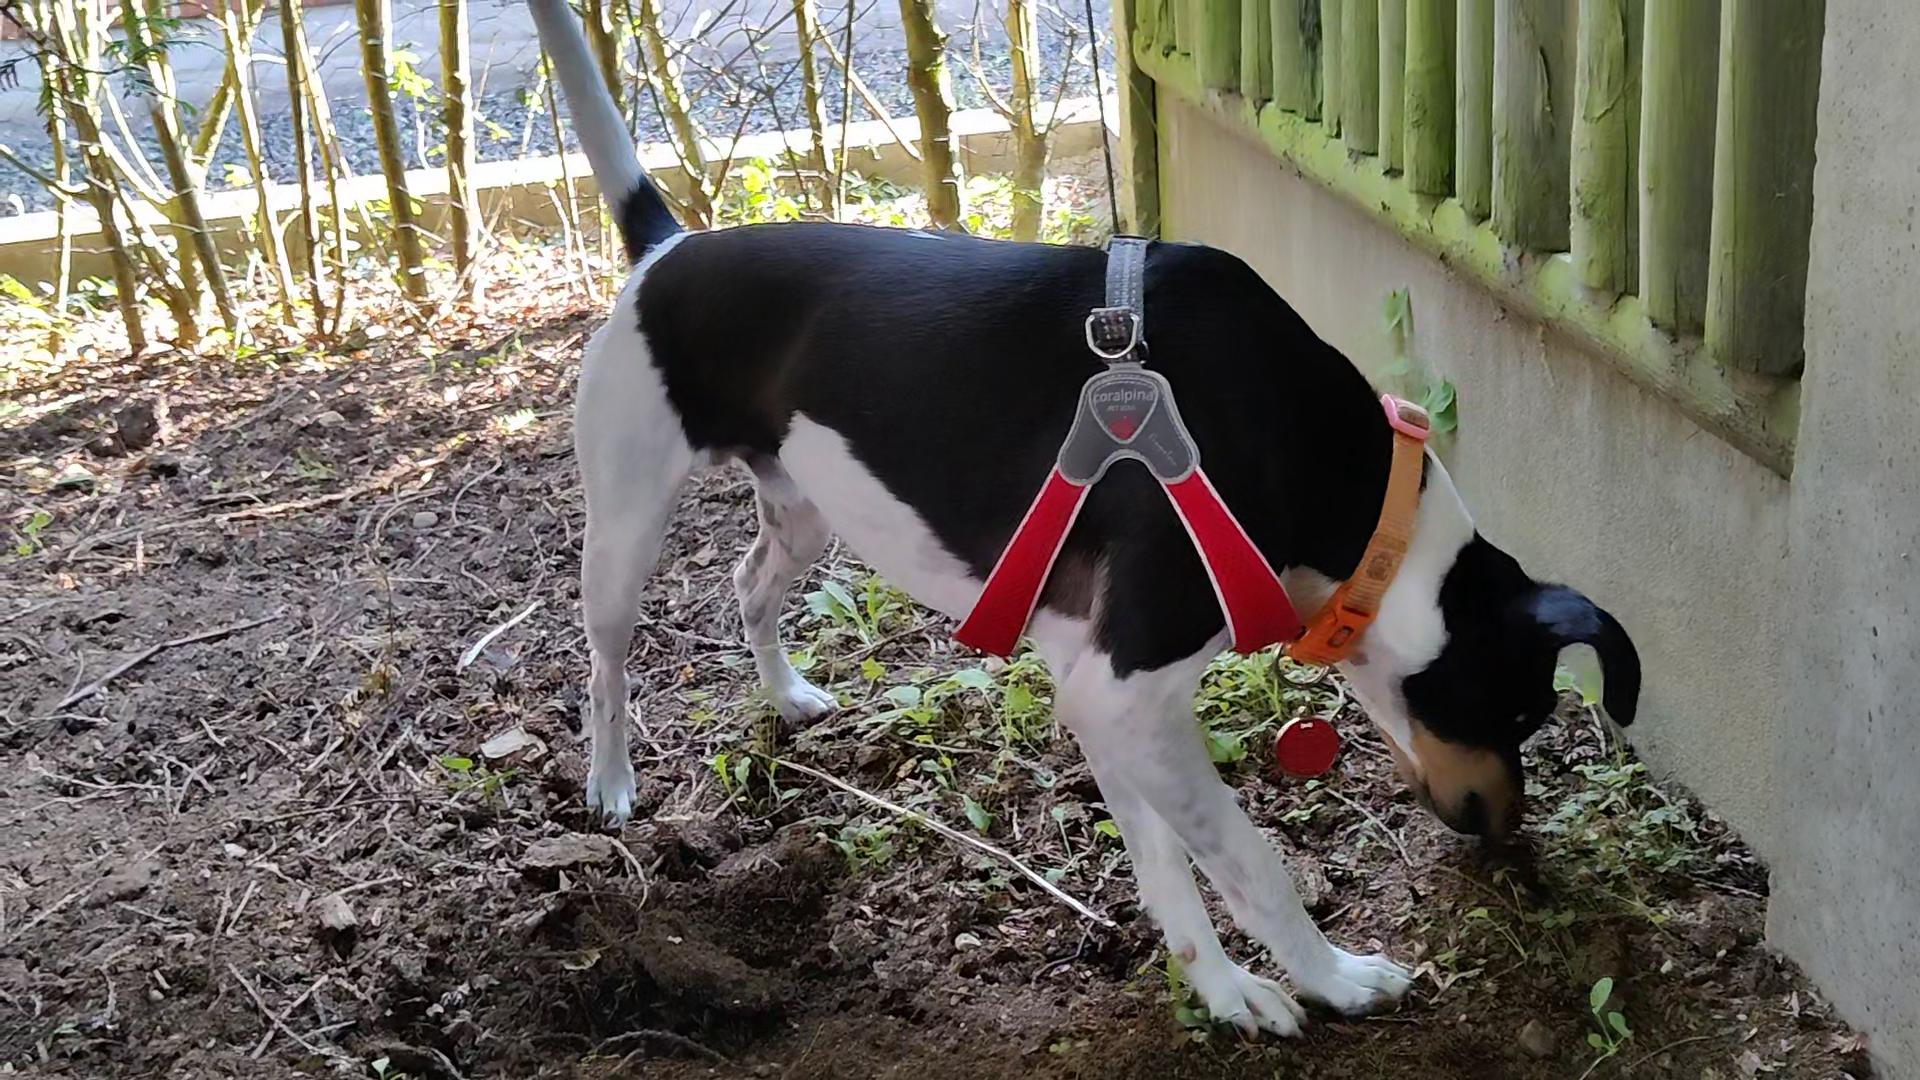Dog: (471, 0, 1669, 1050)
